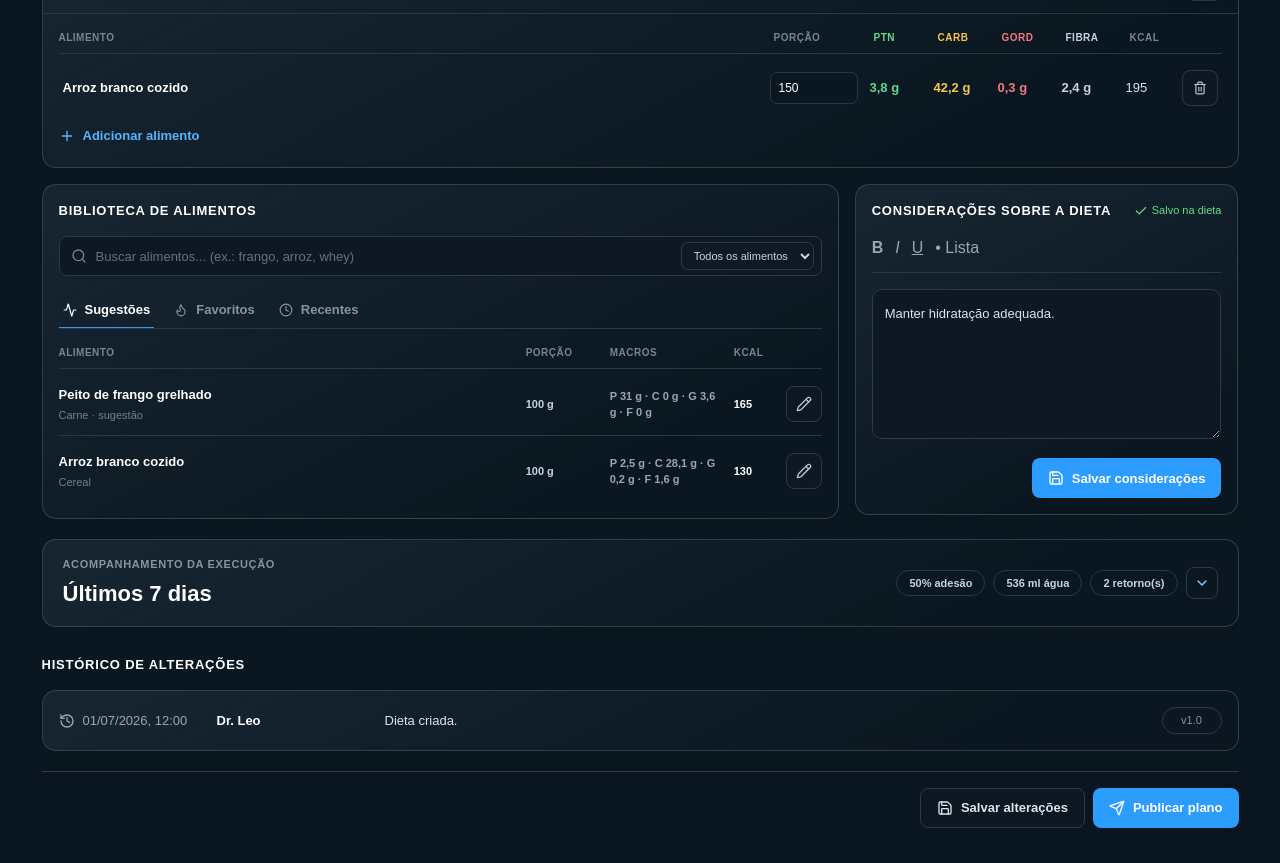
PartnerClientDietView › abre observação de registro em dialog sem alongar a lista
This screenshot has width=1280, height=863.
(page scrolled)
Check: the text "Almoço parcial por falta de apetite." is not shown
Click the button "Acompanhamento da execução": (169, 564) [42,540,1238,626]
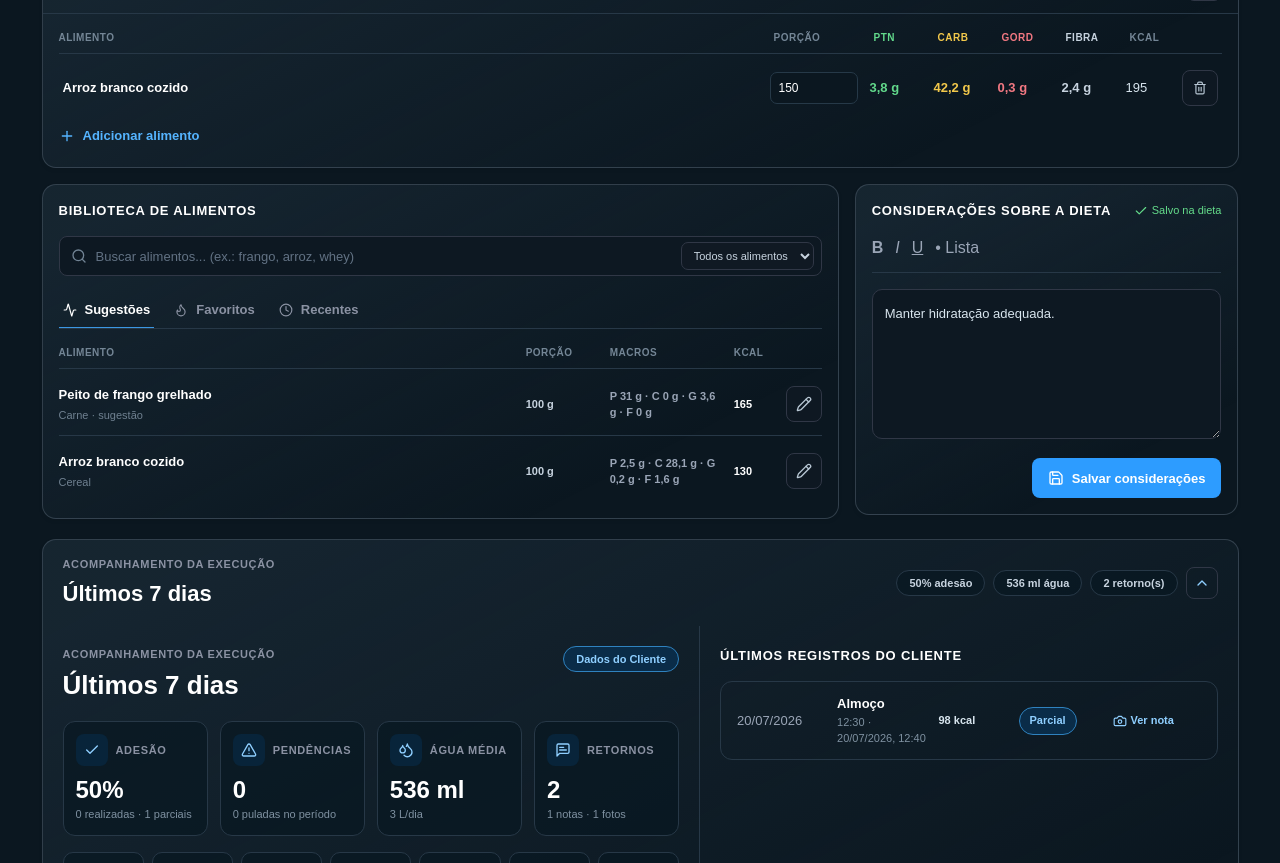
Click the button "Ver nota": (1143, 721) [1112,712,1174,729]
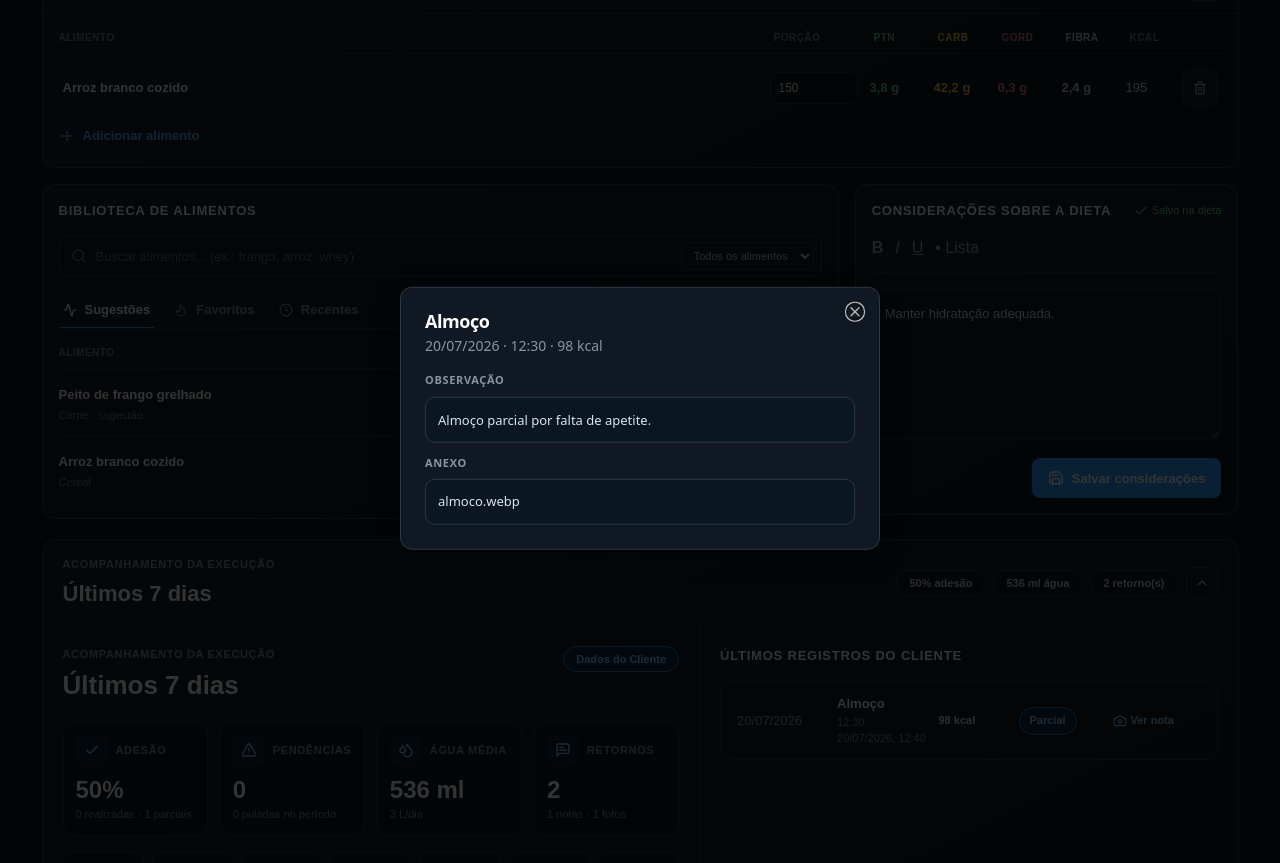
Check: the dialog is shown, box [400,287,880,549]
Check: the text "Almoço parcial por falta de apetite." is shown, box [425,396,855,442]
